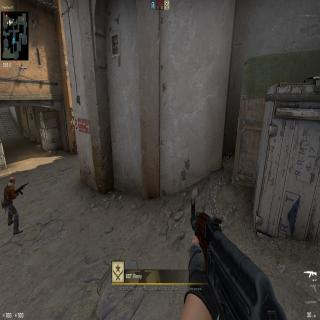T-Head: (8, 175, 17, 187)
